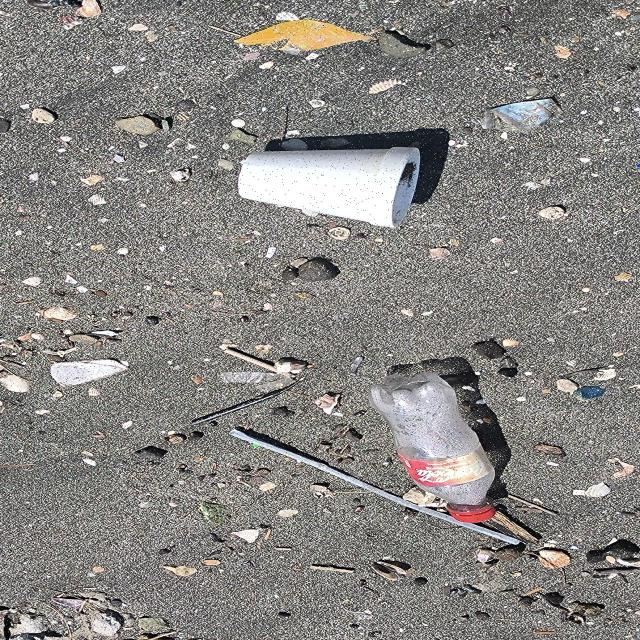plastic_waste: (367, 373, 498, 525)
styrofoam_waste: (237, 147, 423, 229)
